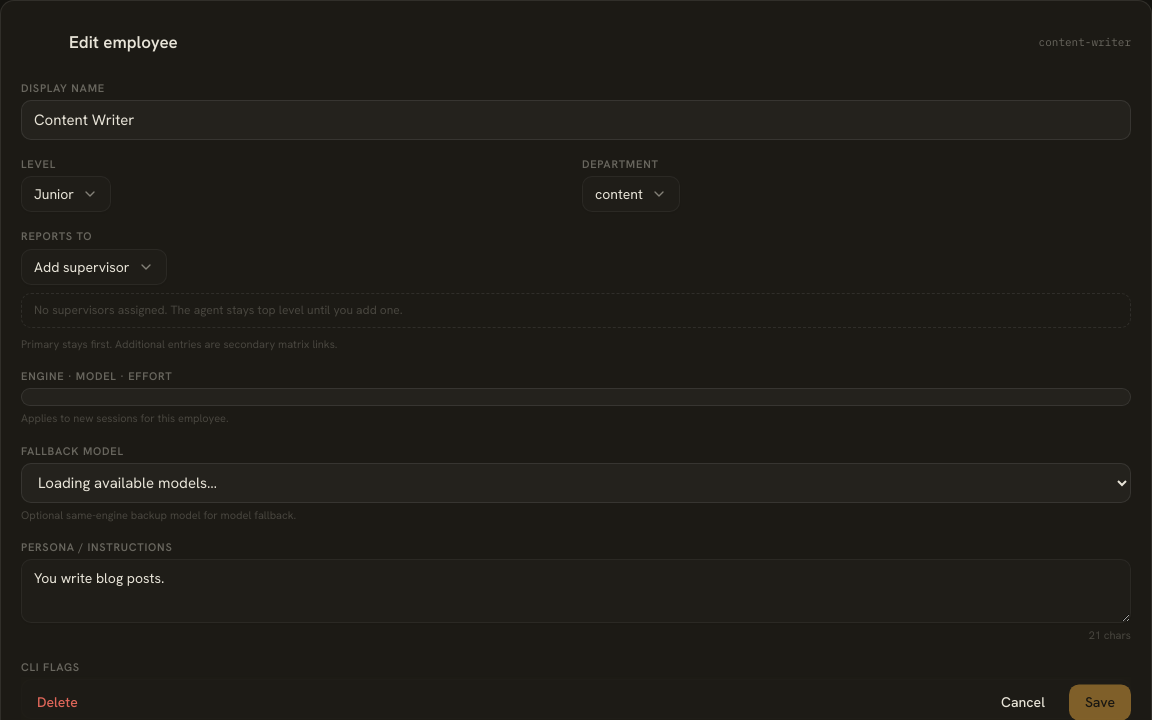
EmployeeEditor › requires a two-step confirmation and can be undone before deleting
Click the button "Delete". click: (57, 702)
box: top-left (21, 684), bottom-right (94, 719)
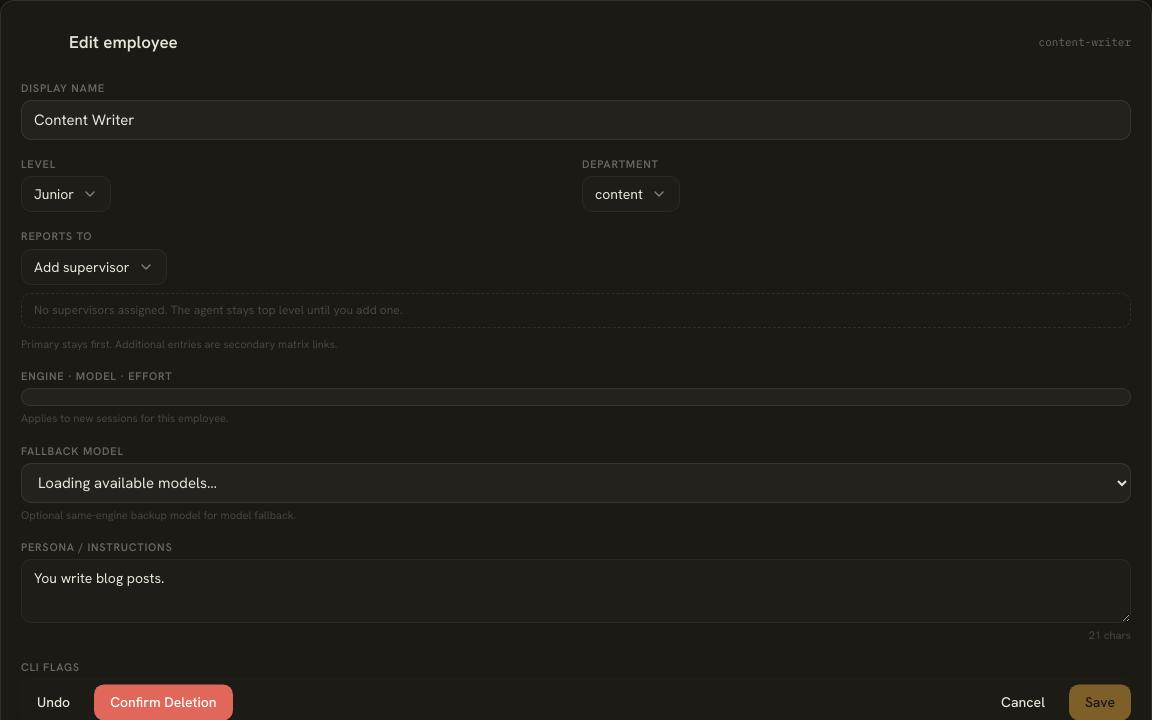
Result: the button "Confirm Deletion" is shown at top-left (94, 684), bottom-right (232, 719)
Undo returns to the initial state.
Click the button "Undo". click: (54, 702)
box: top-left (21, 684), bottom-right (86, 719)
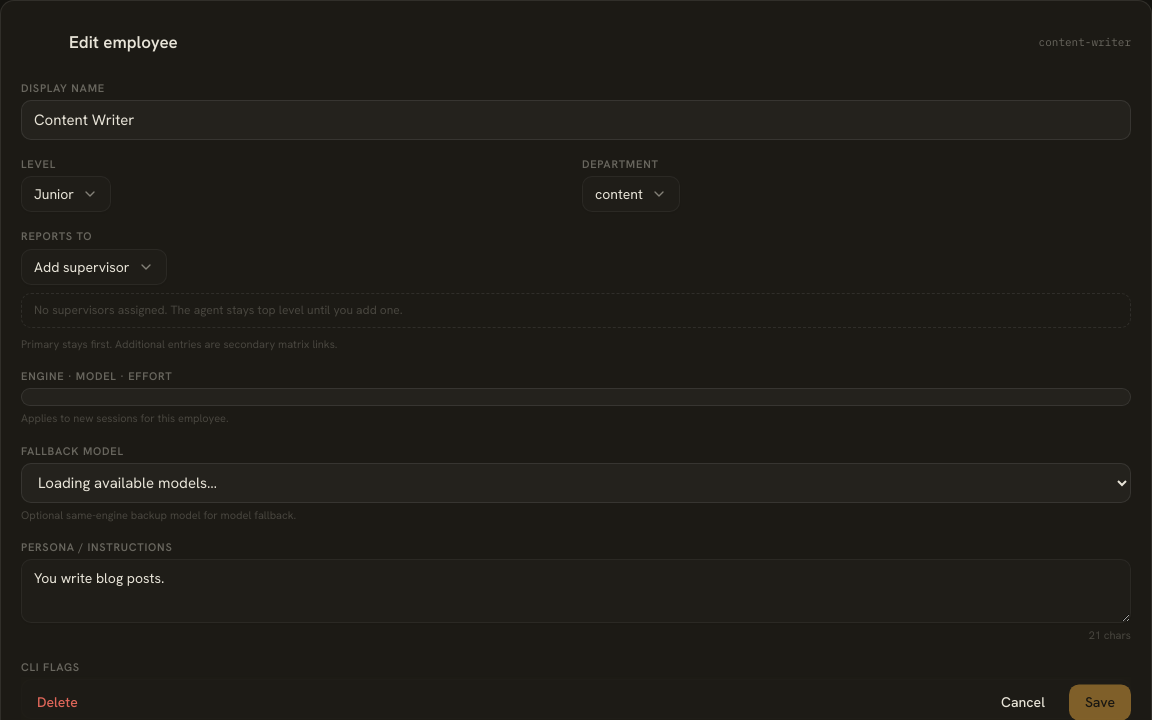
Result: the button "Delete" is shown at top-left (21, 684), bottom-right (94, 719)
